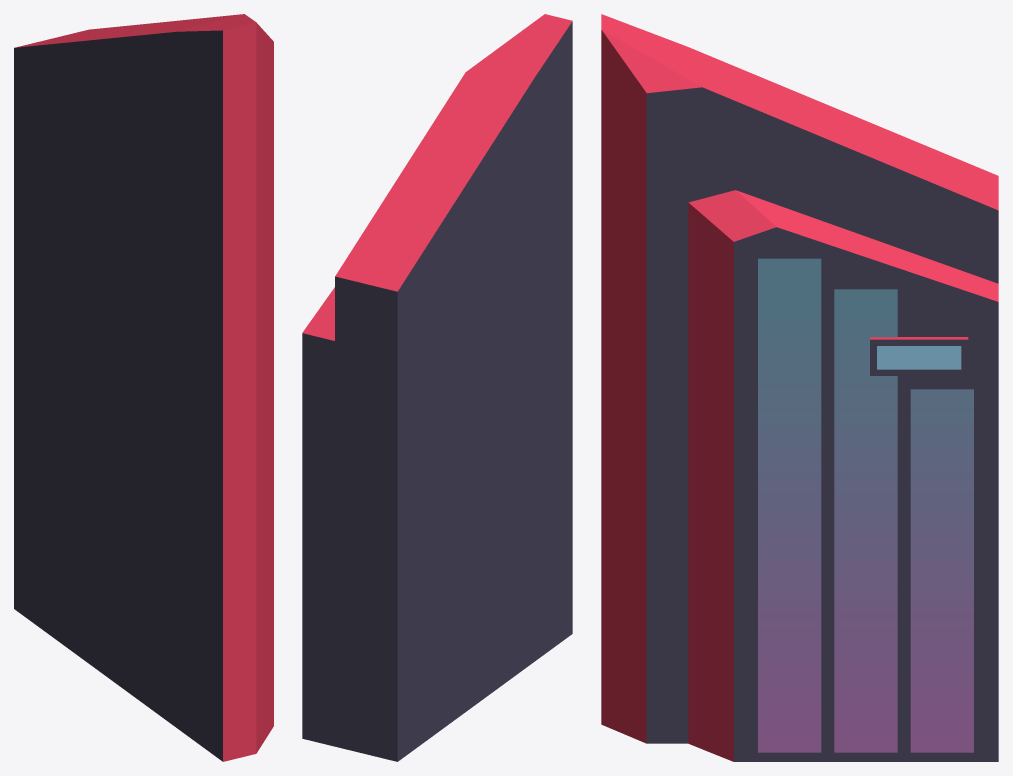
The model's file is CbpBuild B.fbx.
3 views of the same model, side by side, from view 1: azimuth 30°, elevation 25°; view 2: azimuth 150°, elevation 25°; view 3: azimuth 270°, elevation 25° (orthographic). The views are drawn at different scales.
Parts seen in each view (by area): view 1: CbpBuild B; view 2: CbpBuild B; view 3: CbpBuild B.
Boxes of the visible parts, x1,y1,x2,y2 form: CbpBuild B: [14, 14, 273, 761]; CbpBuild B: [302, 14, 572, 761]; CbpBuild B: [601, 14, 998, 761].
Size of the model in its own units: 2.76 by 16.13 by 8.35.
